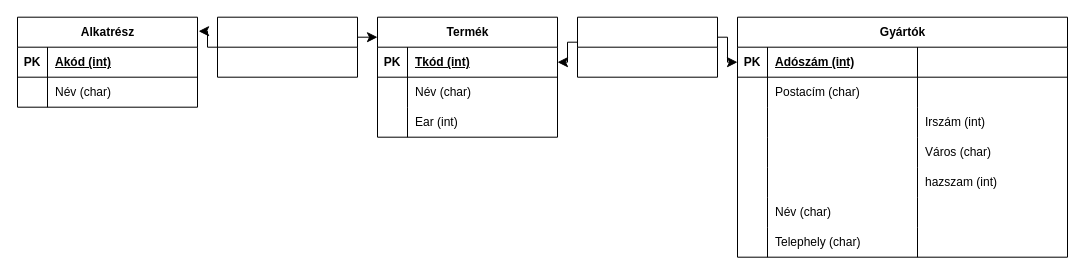
Some shapes in this 1085 by 275 pixel diagram are drawn without their labels. The centre of each missing label's shape, as x and y in pixels:
T-A: the point at 287,46
T-GY: the point at 647,46
